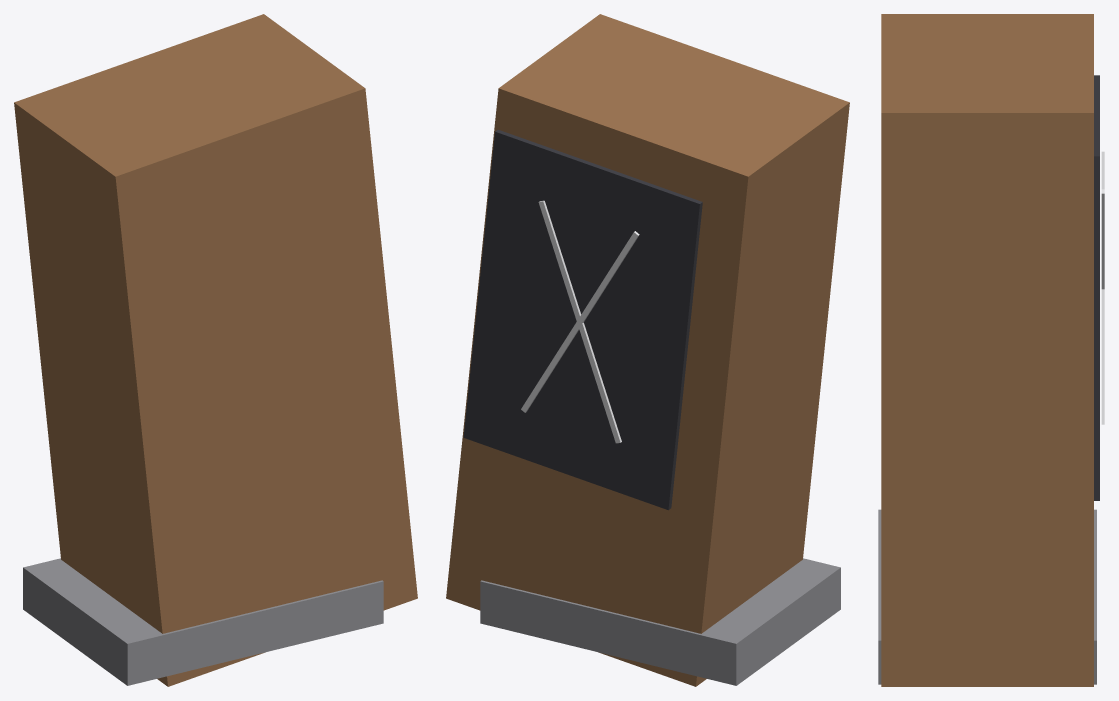
Rendered from prop_vending_kowareta.glb.
3 renders of one model, left to right at view 1: azimuth 30°, elevation 25°; view 2: azimuth 150°, elevation 25°; view 3: azimuth 270°, elevation 25°, orthographic. The views are drawn at different scales.
Visible parts, largest first — view 1: vending_kowareta; view 2: vending_kowareta; view 3: vending_kowareta.
Part boxes in pixels (x1,y1,x2,y2): vending_kowareta: [14, 14, 417, 686]; vending_kowareta: [446, 14, 849, 686]; vending_kowareta: [878, 14, 1104, 686].
Bounding box in the file's own units: 1.2 × 2.09 × 0.745.
